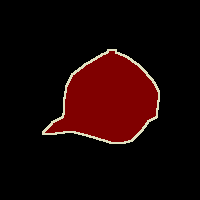hat: (43, 50, 159, 143)
